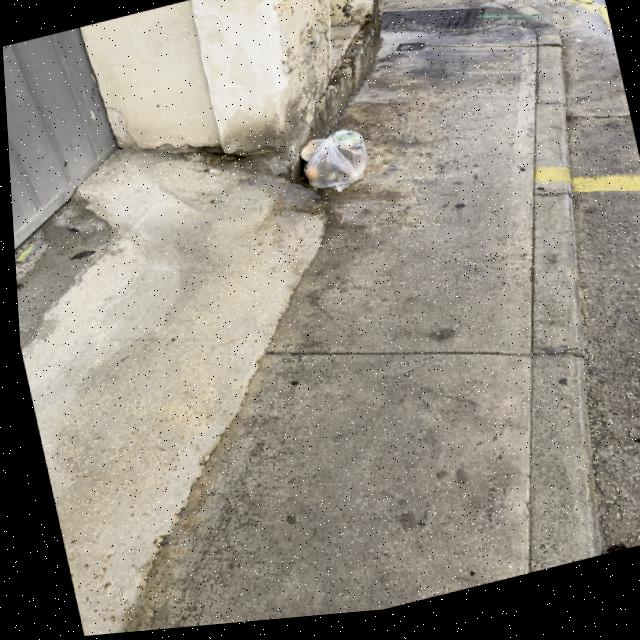Organic Waste -White Bag-: (280, 125, 385, 214)
